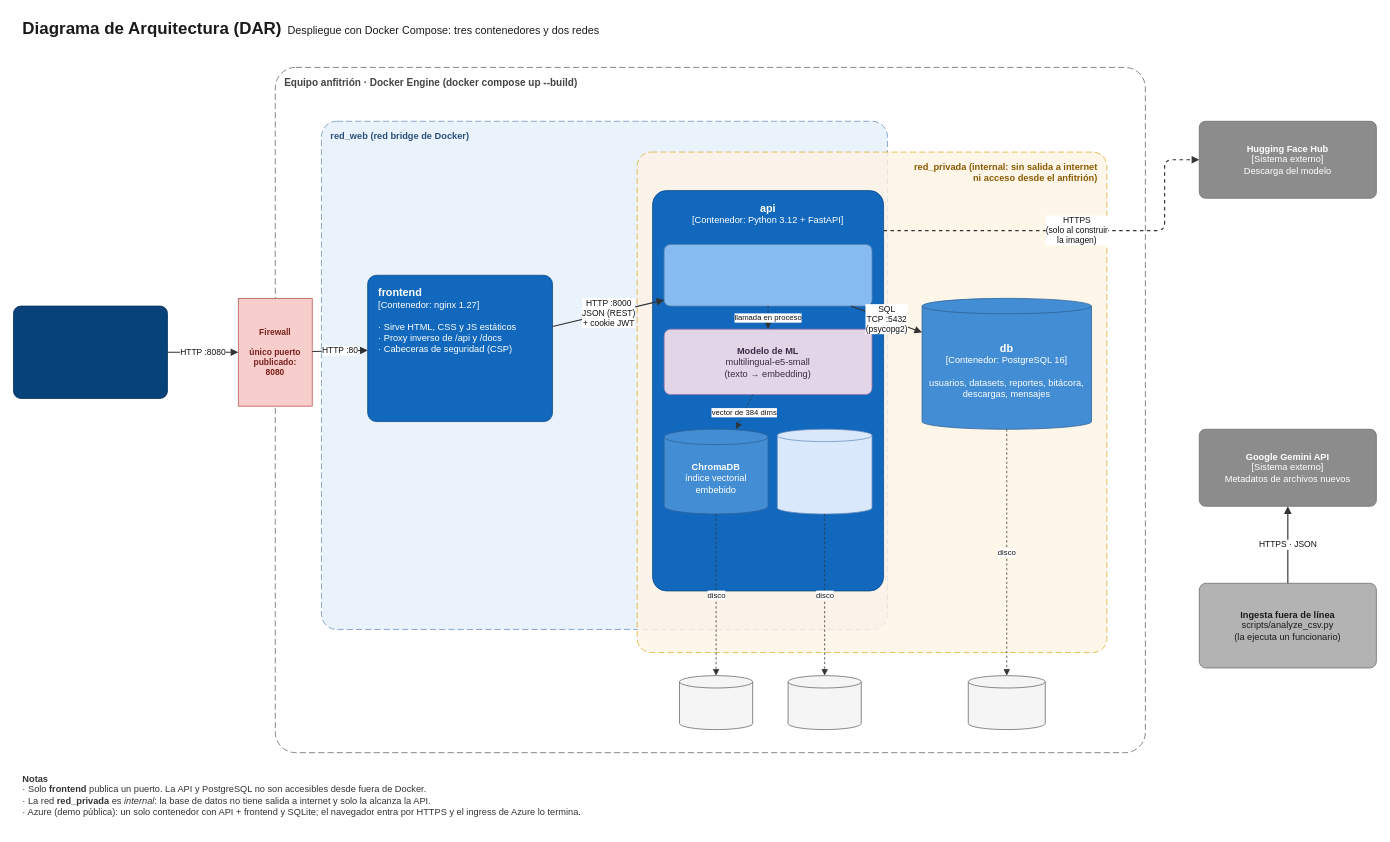
Some shapes in this 1390 by 842 pixel diagram are drawn without their labels. The shapes that lost their labels are listed below. From the top down, each one's centre as x and y in pixels, then its label:
At [767,275]: "API REST Routers · JWT (cookie) · Pydantic · límite de peticiones".
At [90,351]: "Navegador web [Ciudadano / Funcionario] Portal y panel de administración".
At [824,471]: "Archivos CSV publicados".
At [716,702]: "volumen chroma".
At [824,702]: "volumen raw".
At [1006,702]: "volumen pgdata".
